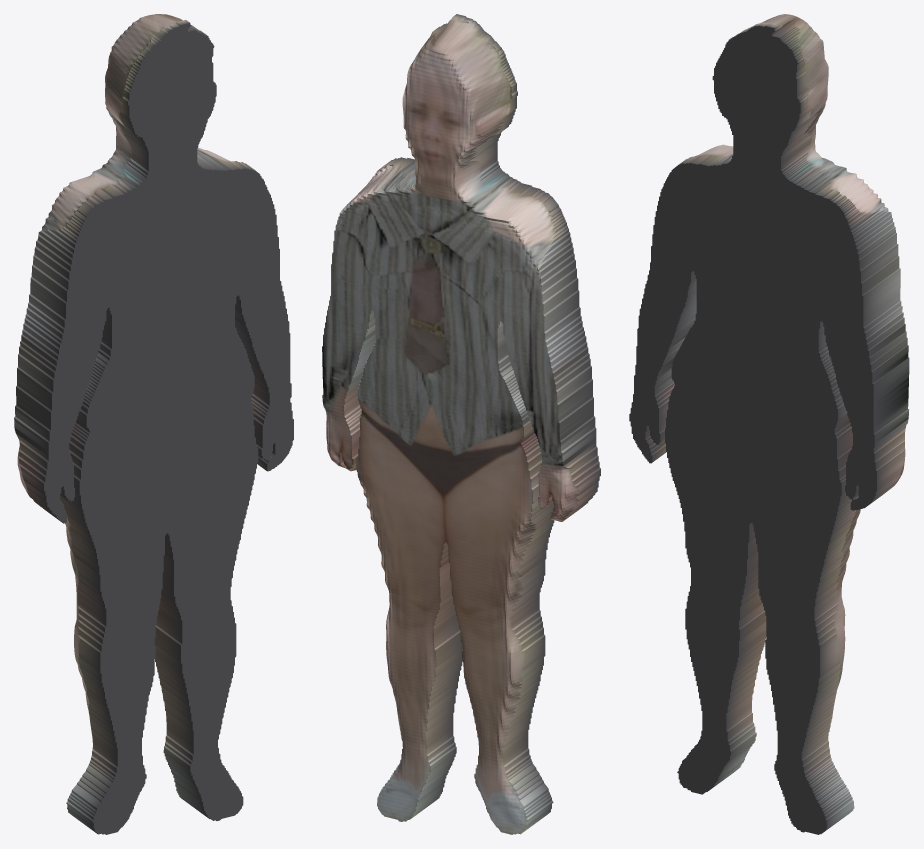
File: avatar_111540.glb
3 renders of one model, left to right at view 1: azimuth 30°, elevation 25°; view 2: azimuth 150°, elevation 25°; view 3: azimuth 330°, elevation 25°, orthographic.
Parts seen in each view (by area): view 1: world; view 2: world; view 3: world.
Boxes of the visible parts, x1=… form: world: x1=14, y1=14, x2=293, y2=834; world: x1=322, y1=14, x2=600, y2=834; world: x1=629, y1=14, x2=909, y2=834.
Size of the model in its own units: 39.06 by 120 by 10.61.
